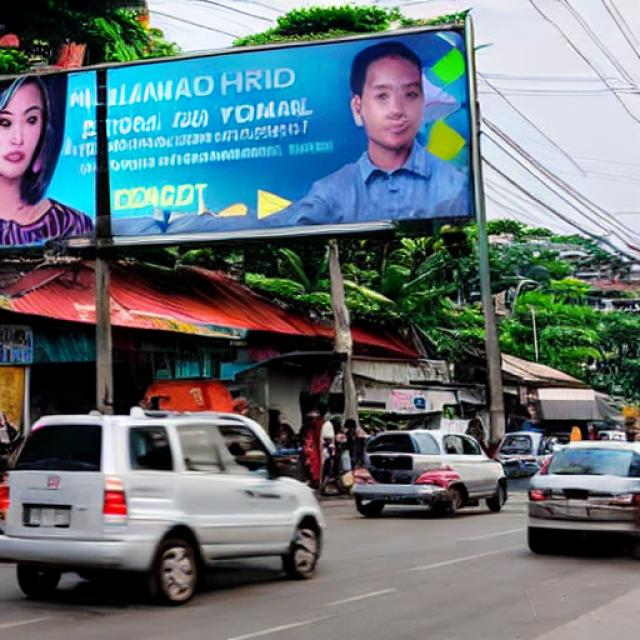Billboard: (0, 9, 481, 260)
